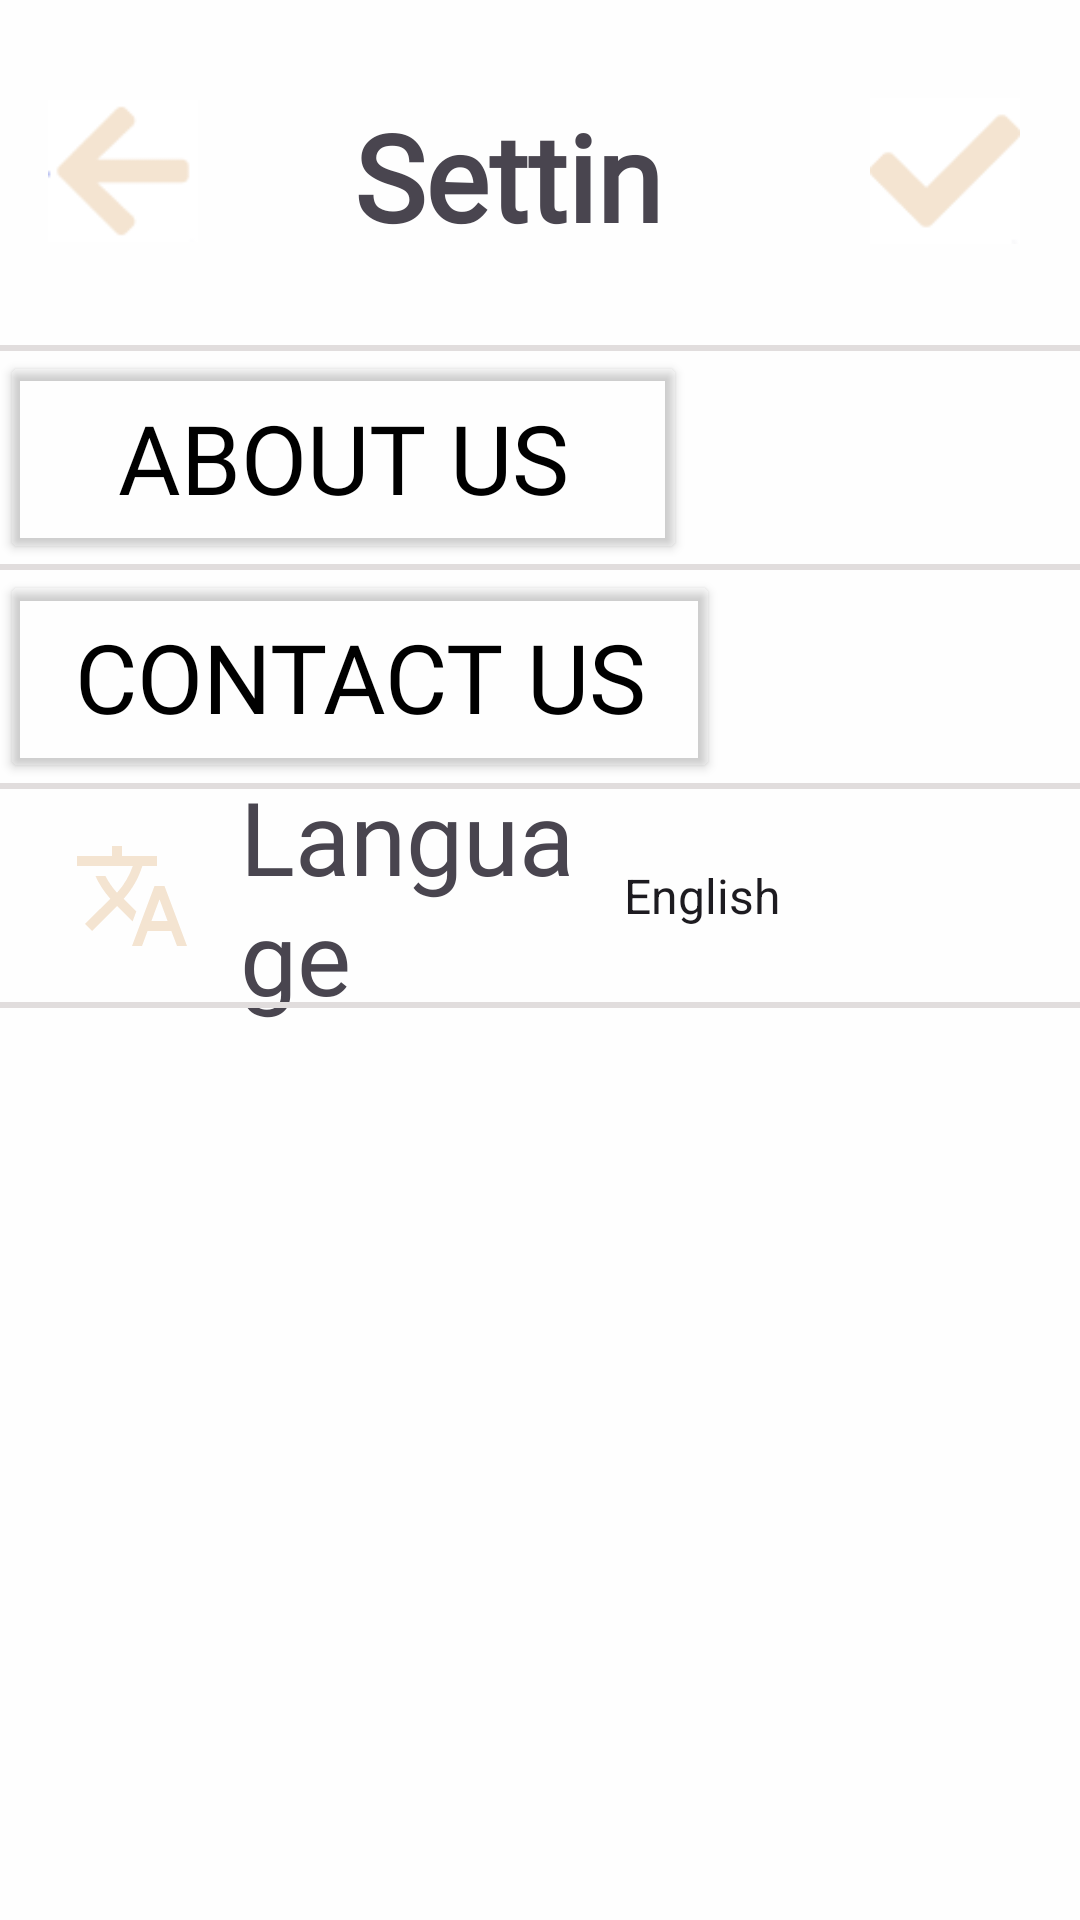

Named icons in this screenshot (1080px x 1920px) and their centers, point (x, y):
back: point (118, 171)
tick: point (945, 171)
translate: point (132, 896)
